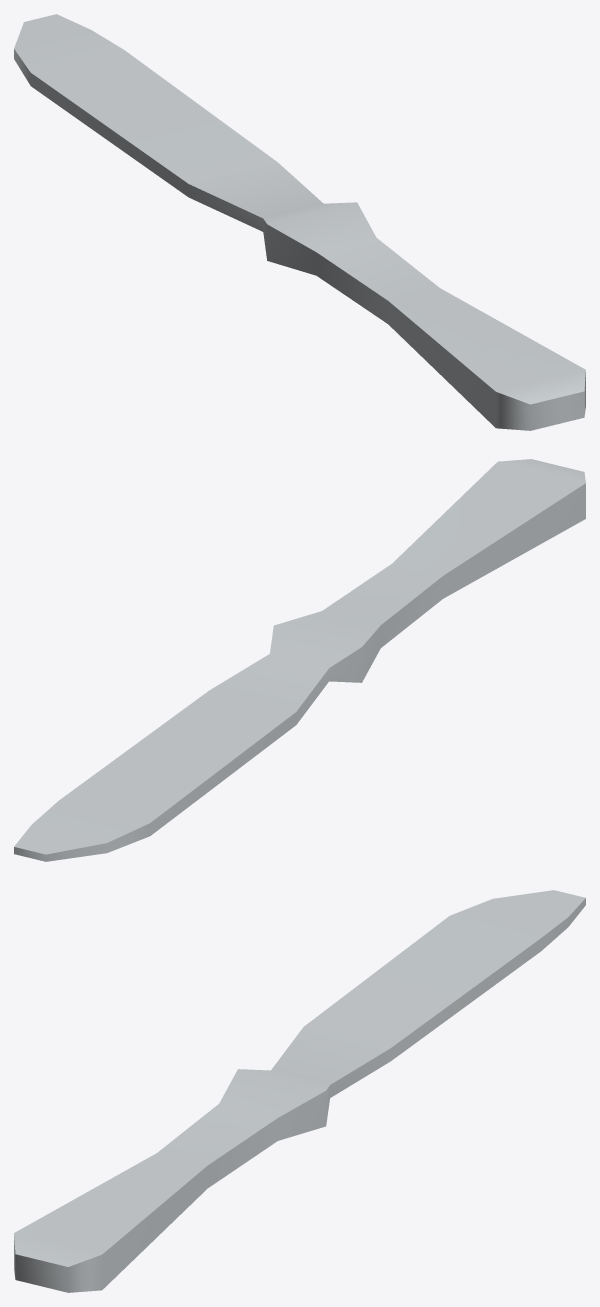
Rendered from SM_Item_Cutlery_Knife_01.obj.
The picture shows the model from 3 angles, top to bottom: view 1: azimuth 30°, elevation 25°; view 2: azimuth 150°, elevation 25°; view 3: azimuth 330°, elevation 25°; orthographic projection. The views are drawn at different scales.
Visible parts, largest first — view 1: SM_Item_Cutlery_Knife_01_Mat_SwatchOverlay_PolygonTown_01_Inst; view 2: SM_Item_Cutlery_Knife_01_Mat_SwatchOverlay_PolygonTown_01_Inst; view 3: SM_Item_Cutlery_Knife_01_Mat_SwatchOverlay_PolygonTown_01_Inst.
Boxes of the visible parts, bbox=[...] form: SM_Item_Cutlery_Knife_01_Mat_SwatchOverlay_PolygonTown_01_Inst: bbox=[14, 14, 585, 430]; SM_Item_Cutlery_Knife_01_Mat_SwatchOverlay_PolygonTown_01_Inst: bbox=[14, 459, 585, 861]; SM_Item_Cutlery_Knife_01_Mat_SwatchOverlay_PolygonTown_01_Inst: bbox=[14, 890, 585, 1292].
Size of the model in its own units: 0.0384 by 0.0134 by 0.3505.
1 material, 1 textured.
